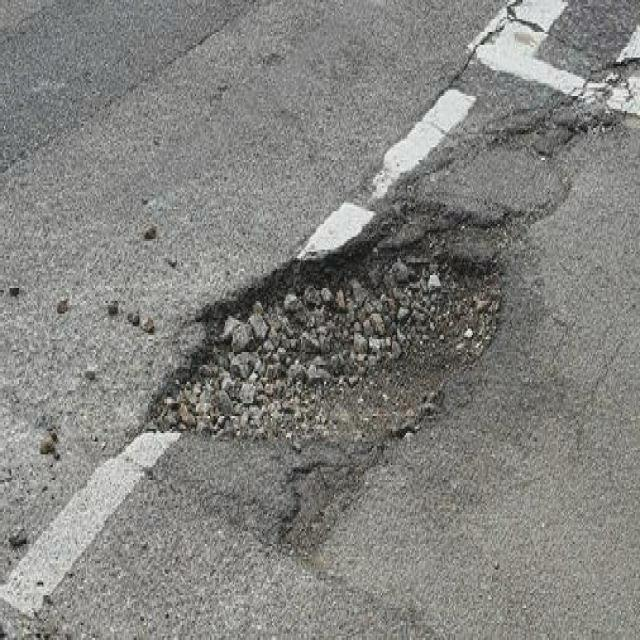Pothole: (139, 209, 507, 454), (274, 457, 353, 565), (493, 100, 617, 160)
